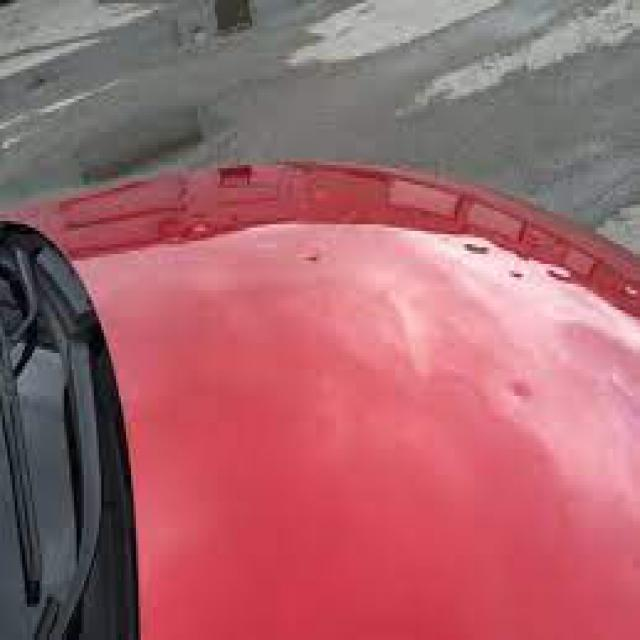bonnet-dent: (2, 155, 638, 544)
